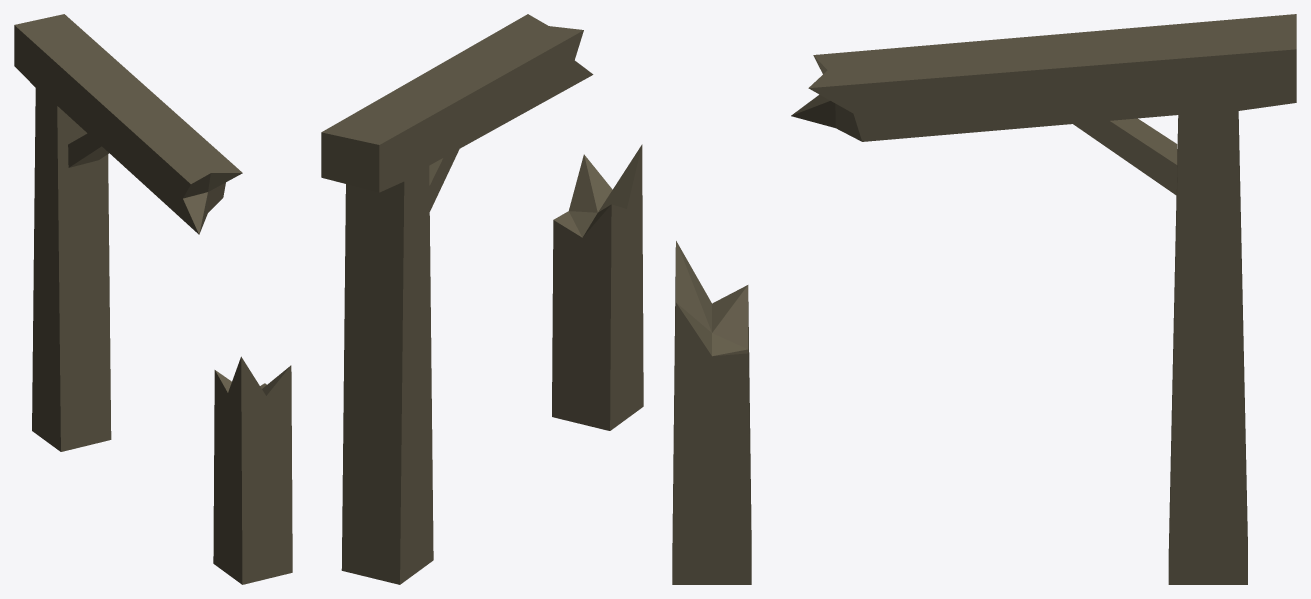
The model's file is MineBrokenFrame04.fbx.
3 renders of one model, left to right at view 1: azimuth 30°, elevation 25°; view 2: azimuth 150°, elevation 25°; view 3: azimuth 270°, elevation 25°, orthographic. The views are drawn at different scales.
Visible parts, largest first — view 1: MineBrokenFrame04; view 2: MineBrokenFrame04; view 3: MineBrokenFrame04.
Part boxes in pixels (x1=…): MineBrokenFrame04: x1=14, y1=14, x2=292, y2=584; MineBrokenFrame04: x1=321, y1=14, x2=643, y2=584; MineBrokenFrame04: x1=672, y1=14, x2=1296, y2=584.
Size of the model in its own units: 396 by 377 by 50.42.
